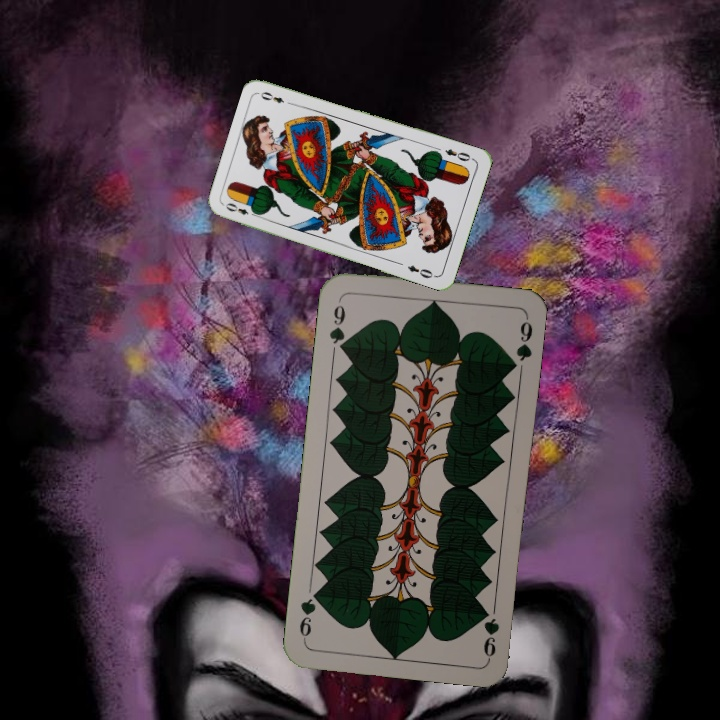EO: (221, 199, 260, 220), (441, 145, 476, 164)
G9: (479, 604, 502, 661), (326, 301, 348, 355)
